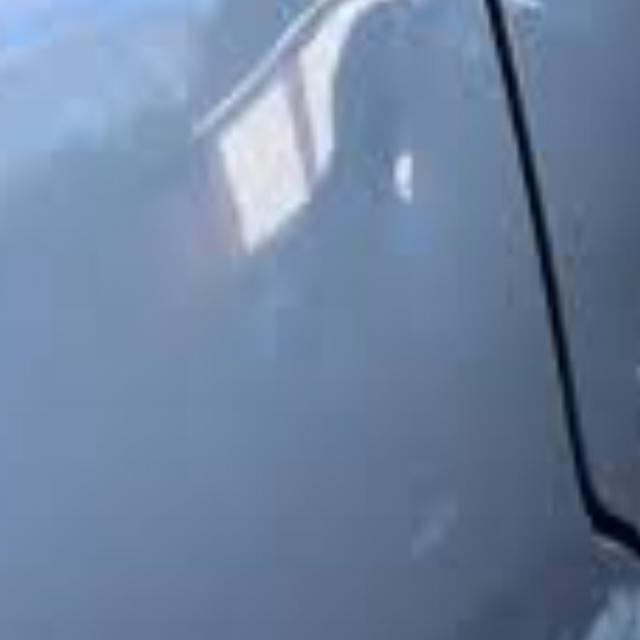dents: (333, 100, 458, 228), (386, 458, 478, 587)
